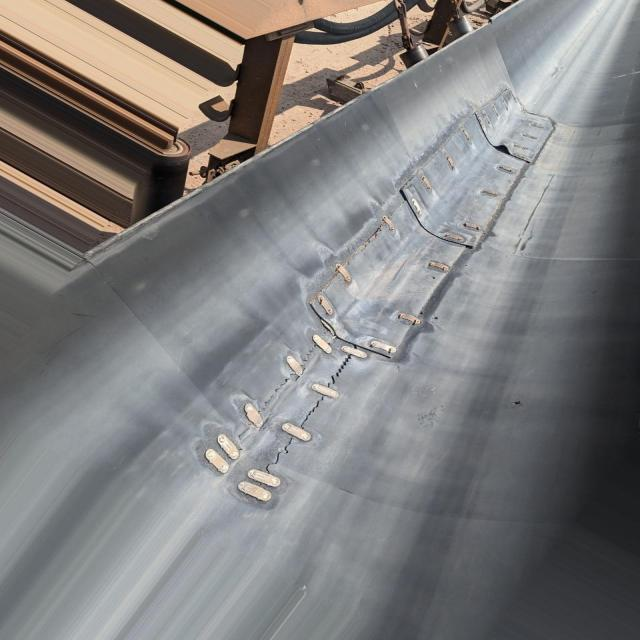patch work: (197, 87, 554, 505)
